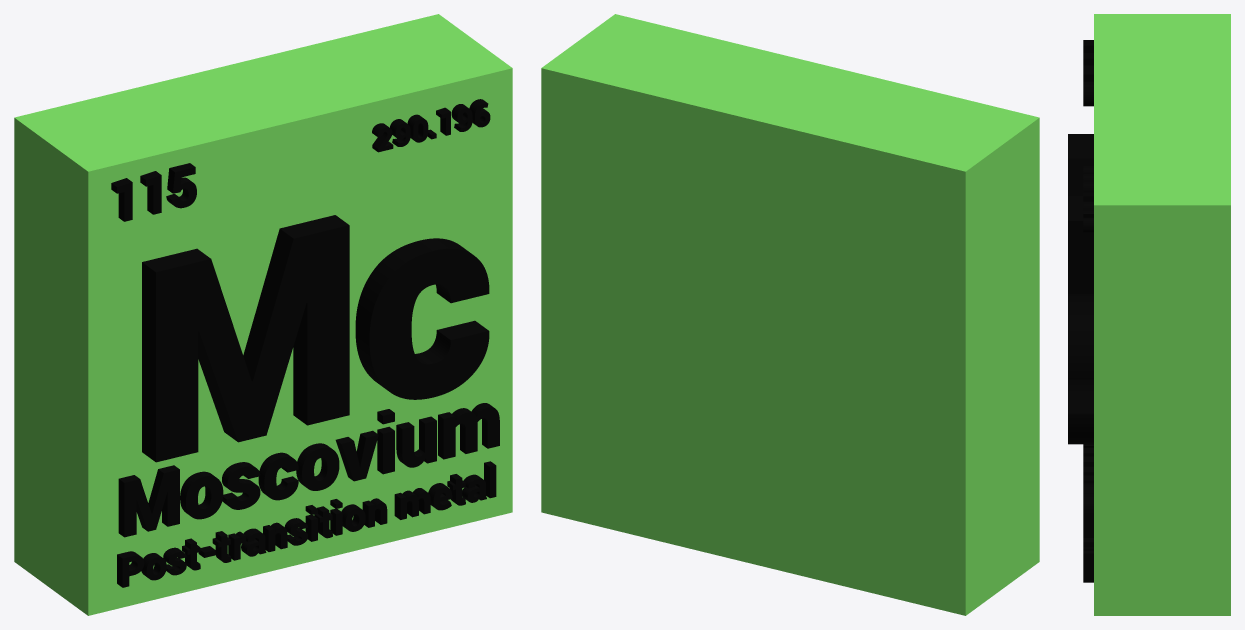
3 views of the same model, side by side, from view 1: azimuth 30°, elevation 25°; view 2: azimuth 150°, elevation 25°; view 3: azimuth 270°, elevation 25° (orthographic). The views are drawn at different scales.
Parts seen in each view (by area): view 1: Cube, Text, Text.001, Text.002, Text.004, Text.003; view 2: Cube; view 3: Cube, Text, Text.001, Text.004, Text.003, Text.002.
Part boxes in pixels (left/top/right/bottom): Cube: left=14, top=14, right=512, bottom=615; Text: left=142, top=215, right=489, bottom=462; Text.001: left=118, top=403, right=499, bottom=537; Text.002: left=117, top=461, right=496, bottom=587; Text.004: left=372, top=99, right=490, bottom=152; Text.003: left=111, top=163, right=196, bottom=221; Cube: left=541, top=14, right=1039, bottom=615; Cube: left=1094, top=14, right=1230, bottom=615; Text: left=1068, top=134, right=1093, bottom=444; Text.001: left=1083, top=444, right=1093, bottom=537; Text.004: left=1083, top=165, right=1093, bottom=232; Text.003: left=1083, top=40, right=1093, bottom=106; Text.002: left=1083, top=538, right=1093, bottom=582.
Bounding box in the file's own units: 178 × 178 × 63.95.
